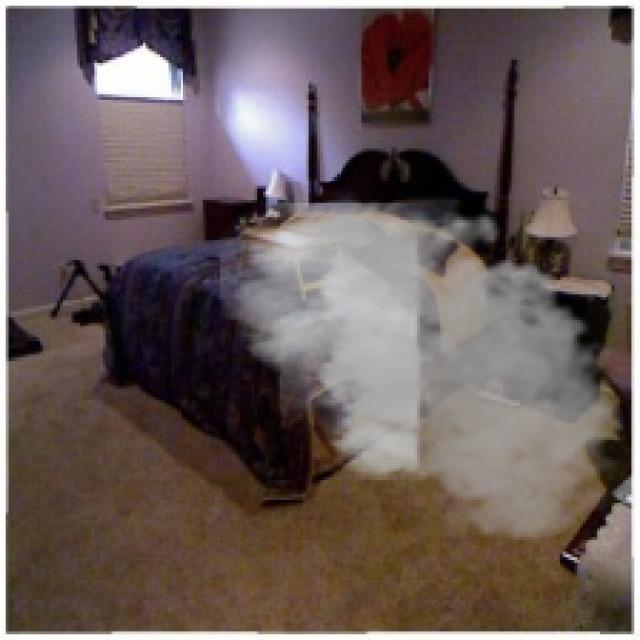Smoke: (220, 188, 637, 552)
